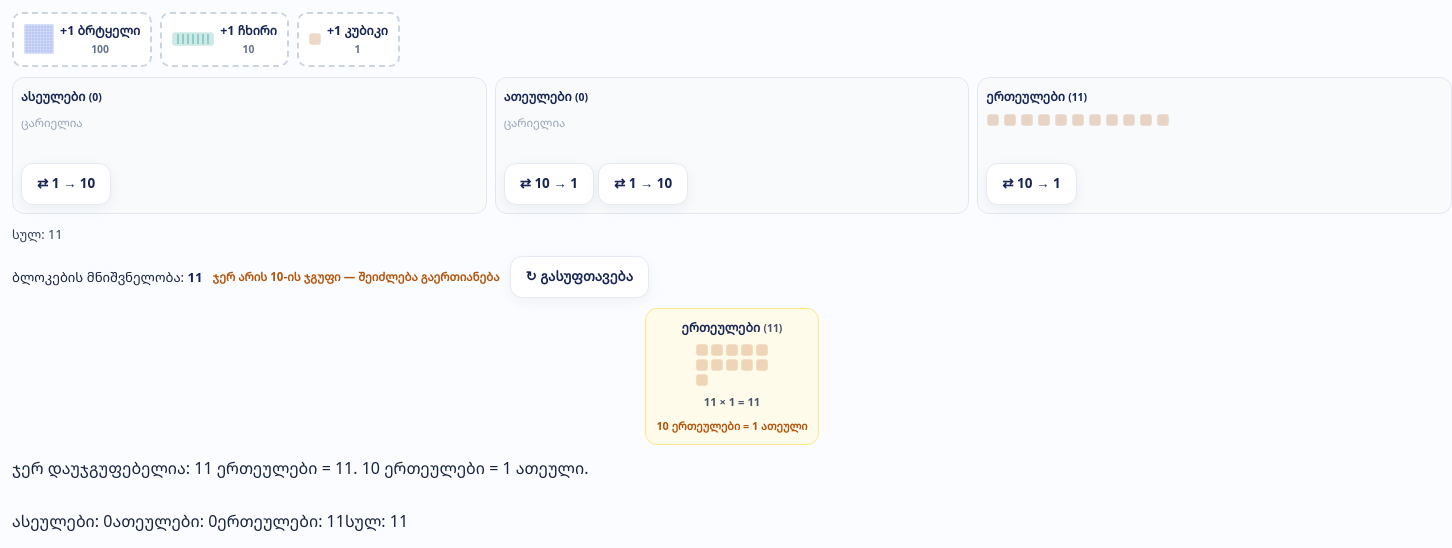
Test: tools: the block lab counts what it is given › says when the mat is not in standard form, and fixes it on exchange
Click the button named "10 ერთეულები გახადე 1 ათეული".
click(1031, 184)  # box 986,163 -> 1077,205
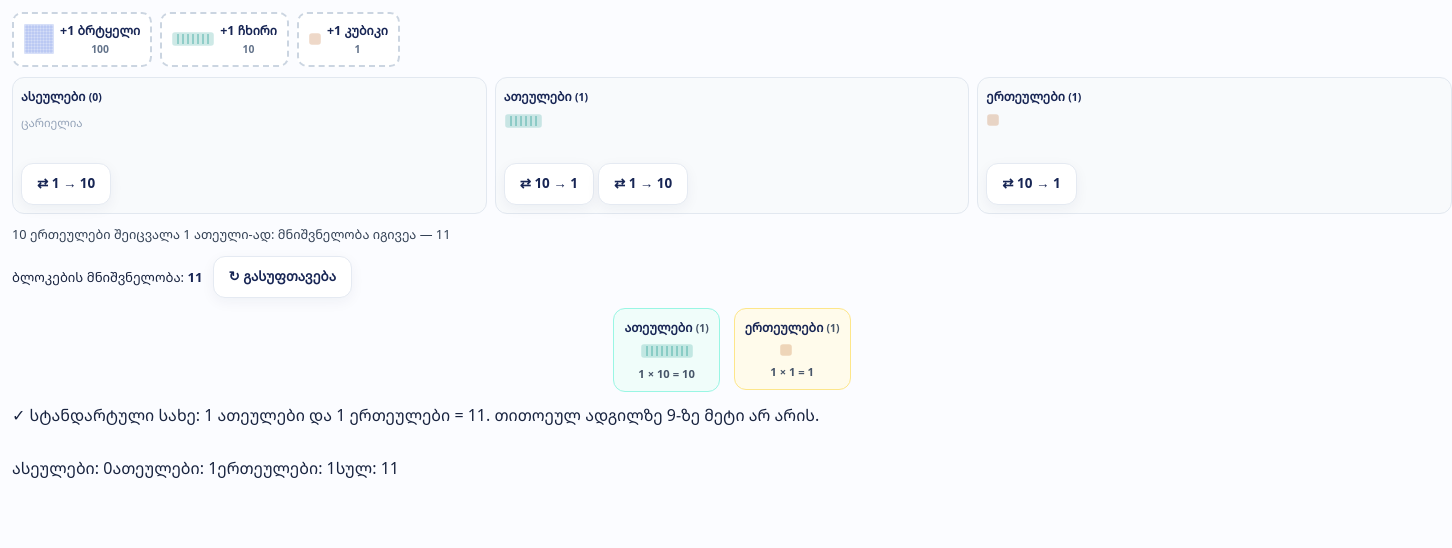
Expected: the message with class "lab-status" shows "სტანდარტული", 12,404 -> 819,426
